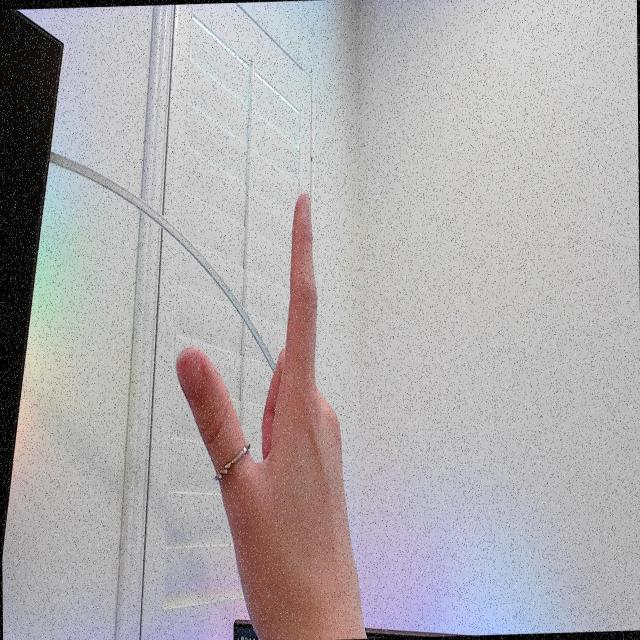L: (167, 169, 378, 622)
